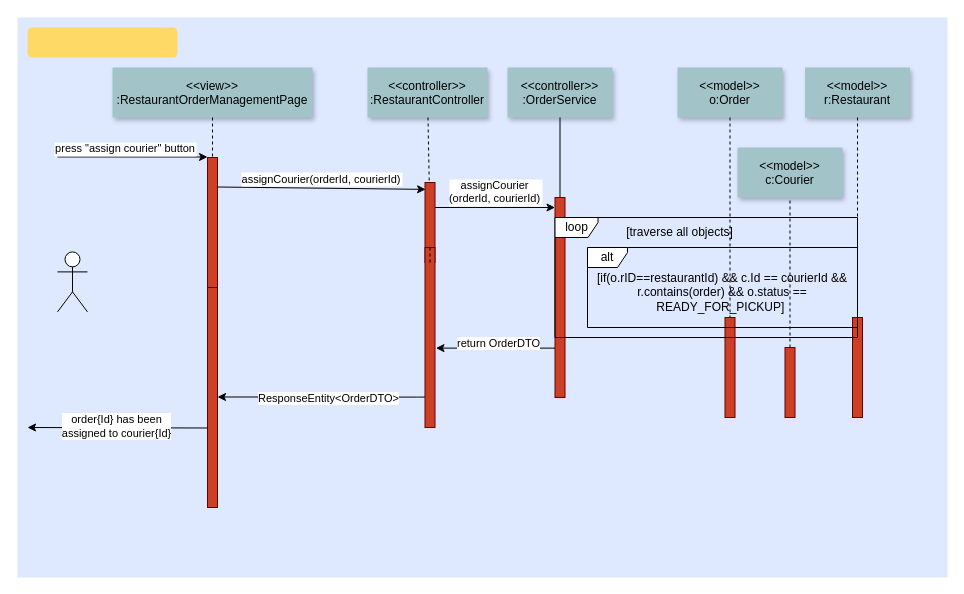
The diagram is 964 pixels wide and 594 high, and some of its shapes have lost their labels. Each missing label, with the centre of its shape:
"assign courier" belongs at pixel 102 42.
"Restaurant" belongs at pixel 72 281.
